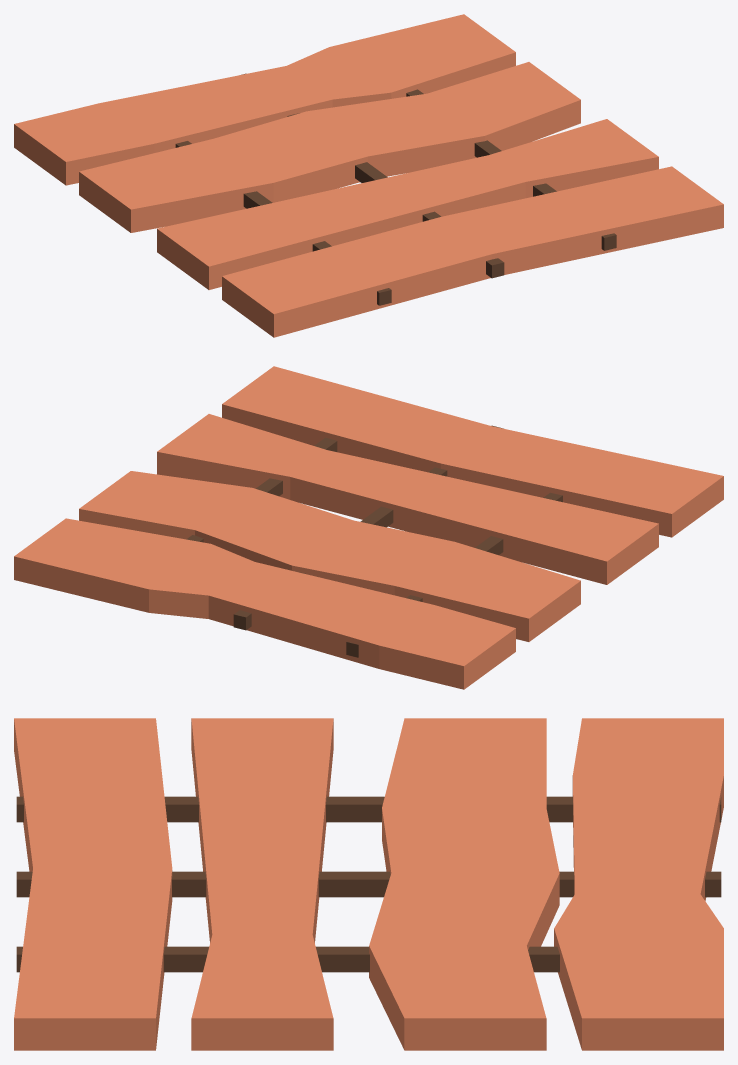
File: ScrapWoodFloor.fbx
3 renders of one model, top to bottom at view 1: azimuth 30°, elevation 25°; view 2: azimuth 150°, elevation 25°; view 3: azimuth 270°, elevation 25°, orthographic. The views are drawn at different scales.
Parts seen in each view (by area): view 1: Cube; view 2: Cube; view 3: Cube.
Boxes of the visible parts, <box> form: Cube: <box>14,14,723,337</box>; Cube: <box>14,366,723,689</box>; Cube: <box>14,718,723,1050</box>.
Bounding box in the file's own units: 400 × 20 × 400.
